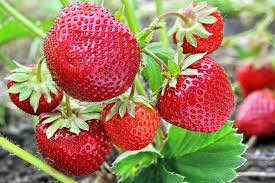Fresa: (43, 1, 142, 103), (154, 53, 238, 135), (34, 102, 115, 178), (101, 93, 161, 152), (7, 60, 65, 116), (171, 1, 226, 55)
